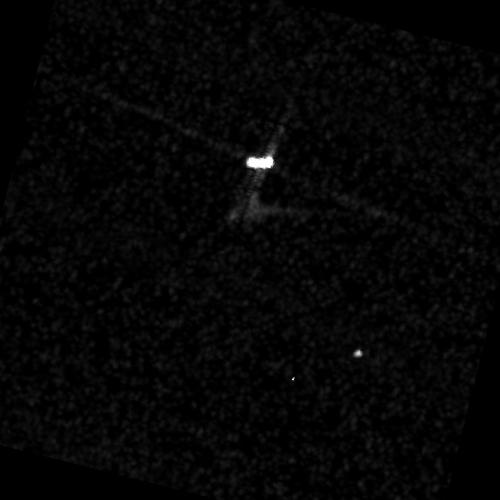ship: (244, 154, 275, 170)
